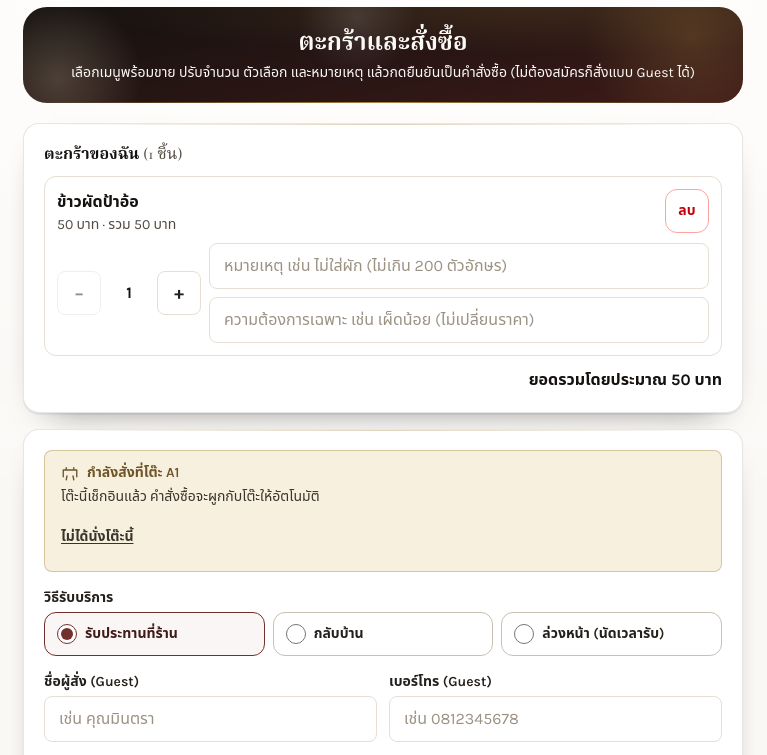
it: ตะกร้ากับโต๊ะที่สแกน QR มา › โต๊ะเช็กอินแล้ว: บอกว่าผูกโต๊ะให้ และส่ง tableId ไปกับคำสั่งซื้อ
The width and height of the screenshot is (767, 755).
Expected: the text "กำลังสั่งที่โต๊ะ A1" is shown, [61,464,180,482]
Expected: the text "โต๊ะนี้เช็กอินแล้ว คำสั่งซื้อจะผูกกับโต๊ะให้อัตโนมัติ" is shown, [61,488,320,505]
Type "คุณมินตรา" into the field labelled "ชื่อผู้สั่ง (Guest)" at (210, 719), box [44,696,377,742]
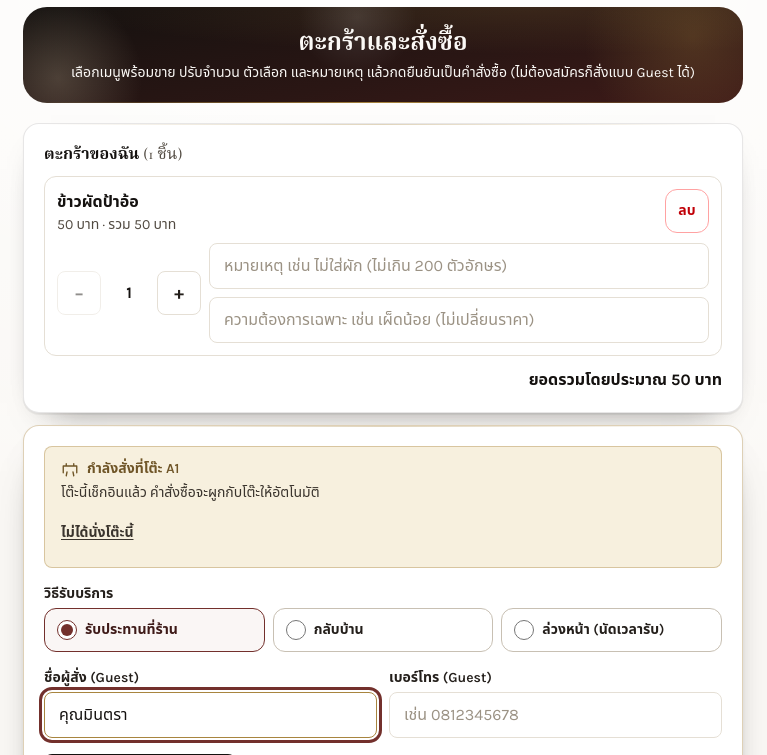
Type "0812345678" into the field labelled "เบอร์โทร (Guest)" at (556, 715), box [389,692,722,738]
(page scrolled)
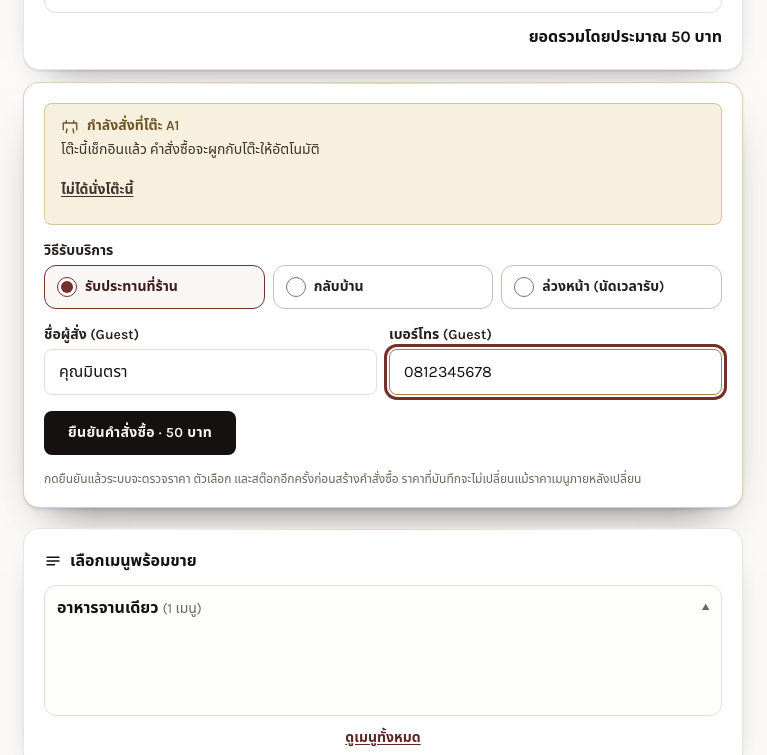
Click the button "ยืนยันคำสั่งซื้อ · 50 บาท" at (140, 433), box [44,411,236,455]
(page scrolled)
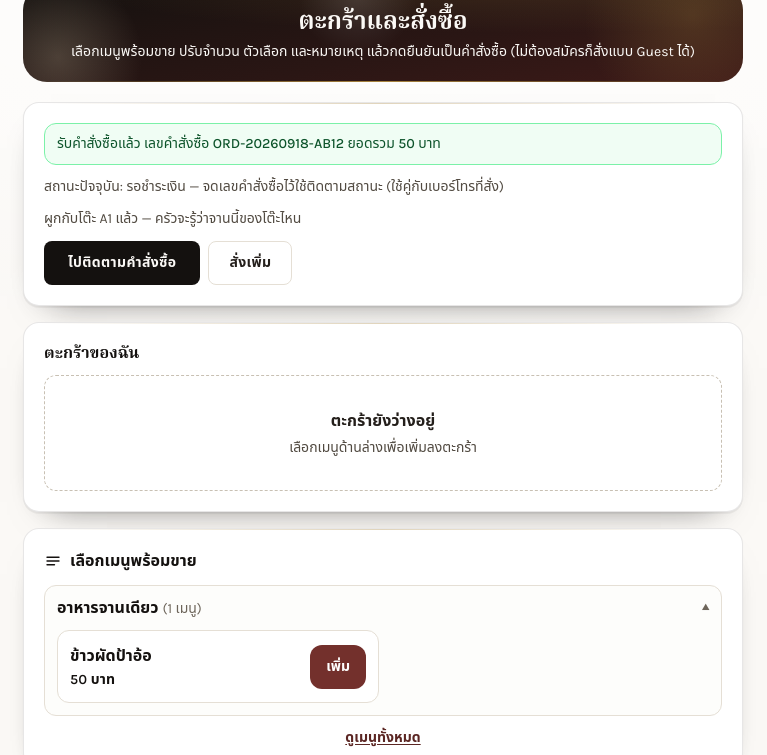
Result: the text "ผูกกับโต๊ะ A1 แล้ว — ครัวจะรู้ว่าจานนี้ของโต๊ะไหน" is shown at [44,210,301,227]
